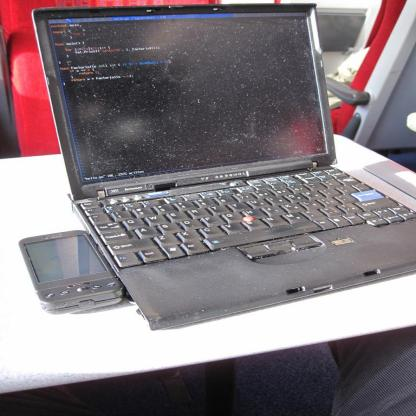board: (31, 3, 416, 332)
